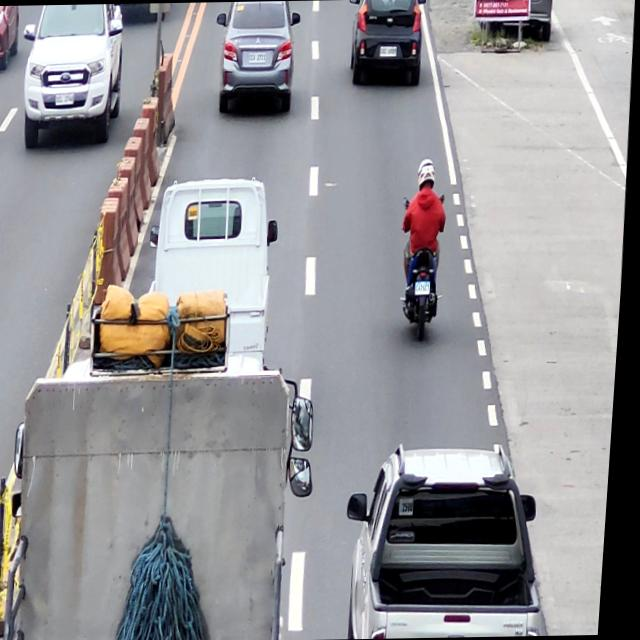Car: (345, 440, 558, 638), (212, 0, 304, 116), (345, 0, 427, 85)
License-Plate: (417, 280, 435, 296), (379, 44, 398, 58), (248, 52, 268, 64)
Motorcycle: (398, 189, 453, 342)
Truck: (2, 335, 330, 640), (144, 176, 287, 358)
